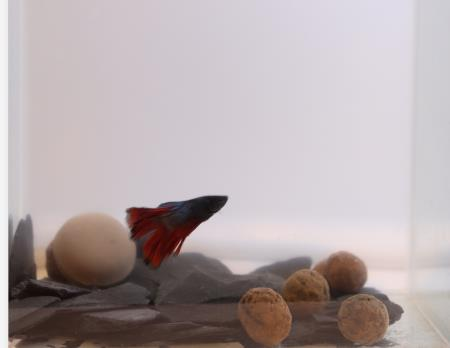fish: (124, 191, 232, 270)
